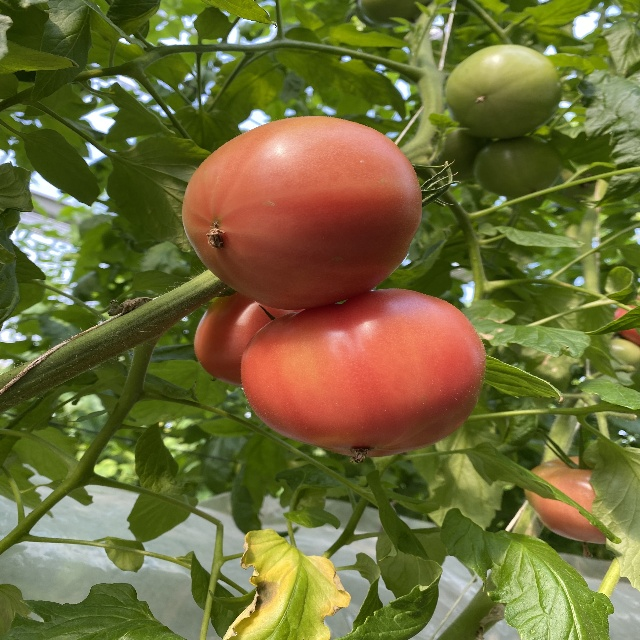b_fully_ripened: (183, 116, 422, 310), (239, 288, 487, 460), (193, 290, 302, 386)
b_green: (444, 44, 561, 140), (474, 134, 565, 199)
b_half_ripened: (522, 456, 605, 544)
